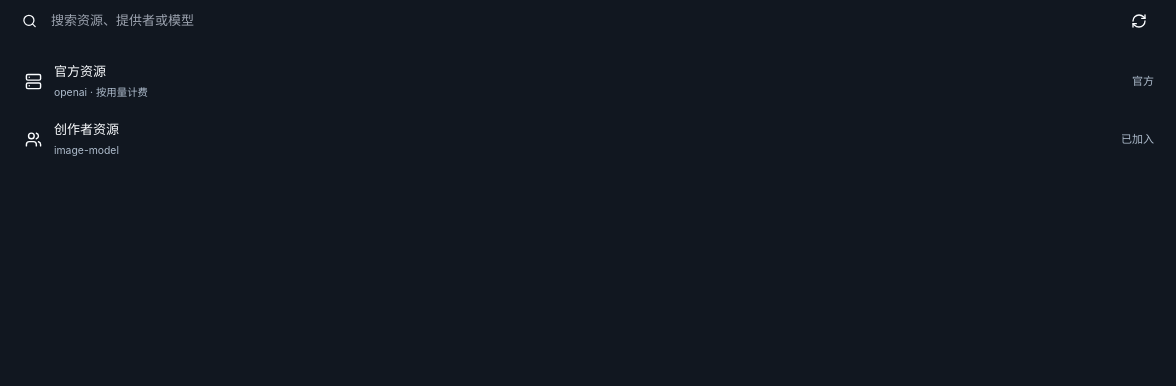
unified resource selection › does not treat membership as usable when the pool is unavailable: {"owner_paused":true}
Step 1. Click the button "创作者资源 image-model 已加入" → (87, 129), box [12, 110, 1164, 168]
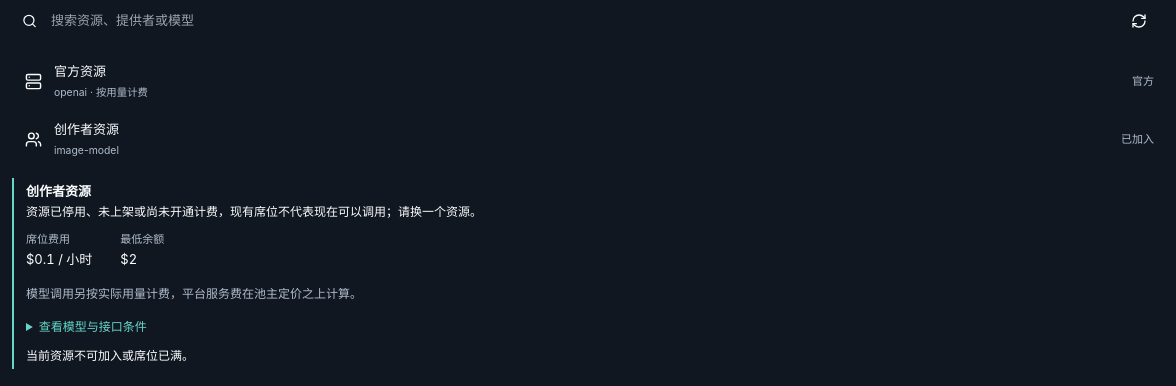
Result: the text "现有席位不代表现在可以调用" is shown at [26, 204, 482, 219]
